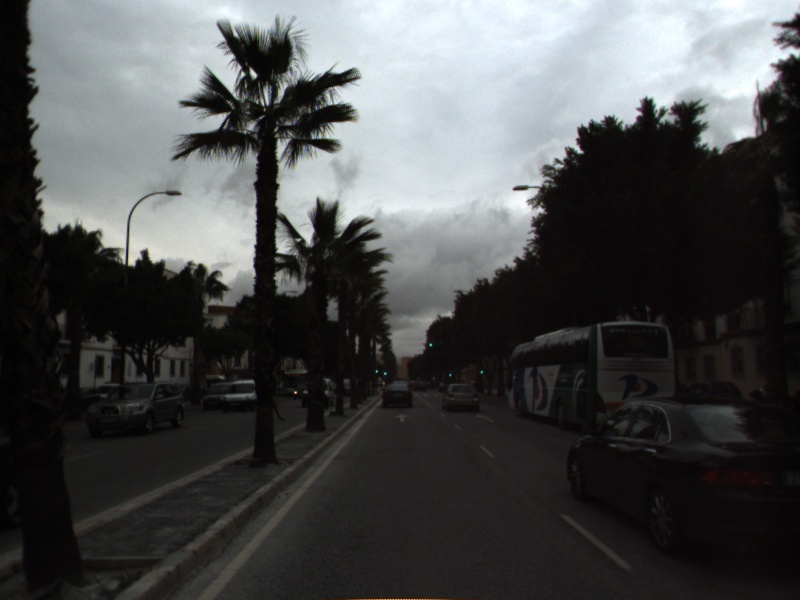STRAIGHT: (472, 411, 497, 425), (392, 411, 413, 424)
